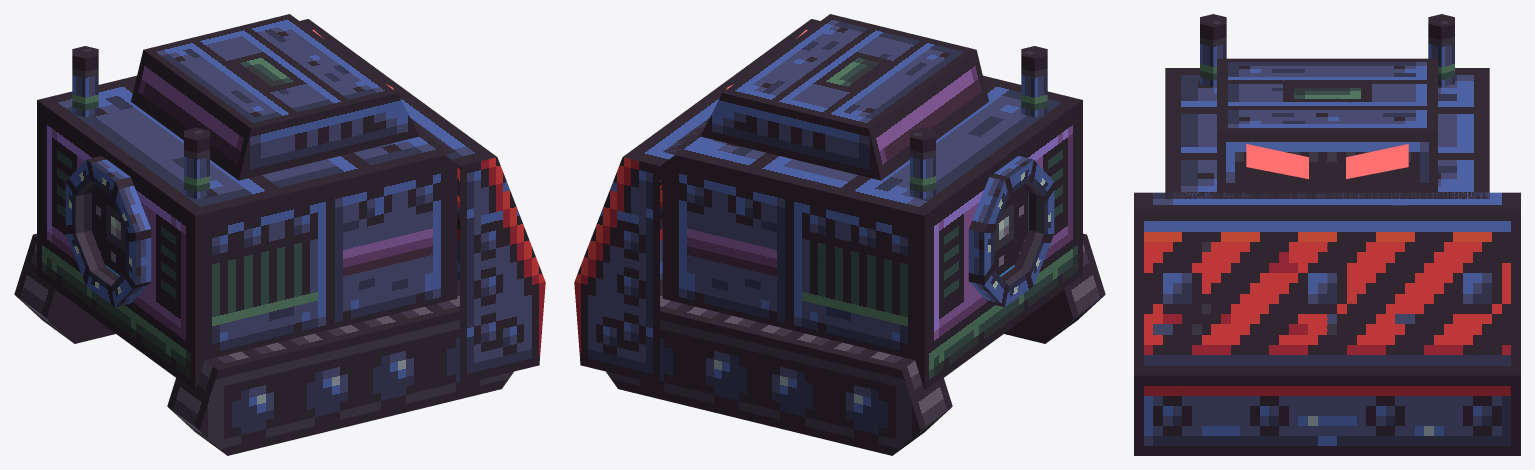
The model's file is rammer.glb.
3 views of the same model, side by side, from view 1: azimuth 30°, elevation 25°; view 2: azimuth 150°, elevation 25°; view 3: azimuth 270°, elevation 25° (orthographic). The views are drawn at different scales.
Visible parts, largest first — view 1: body; view 2: body; view 3: body, eyes.
Part boxes in pixels (bbox=[...]): body: bbox=[14, 14, 545, 455]; body: bbox=[574, 14, 1105, 455]; body: bbox=[1134, 14, 1520, 455]; eyes: bbox=[1246, 144, 1408, 178].
Size of the model in its own units: 1.12 by 0.9 by 1.05.
2 materials, 1 textured.
